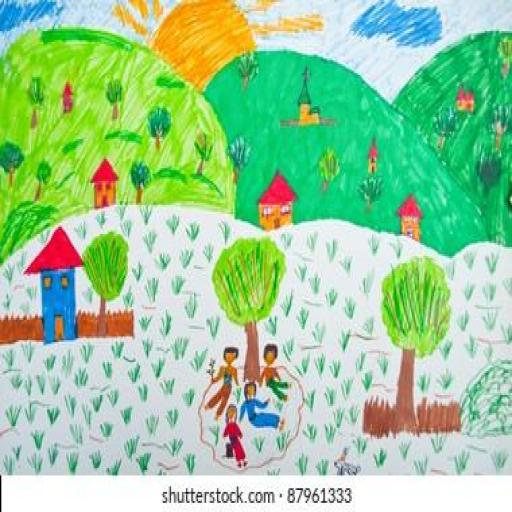person: (202, 343, 242, 421), (241, 380, 291, 432), (259, 342, 291, 408), (220, 400, 248, 470)
